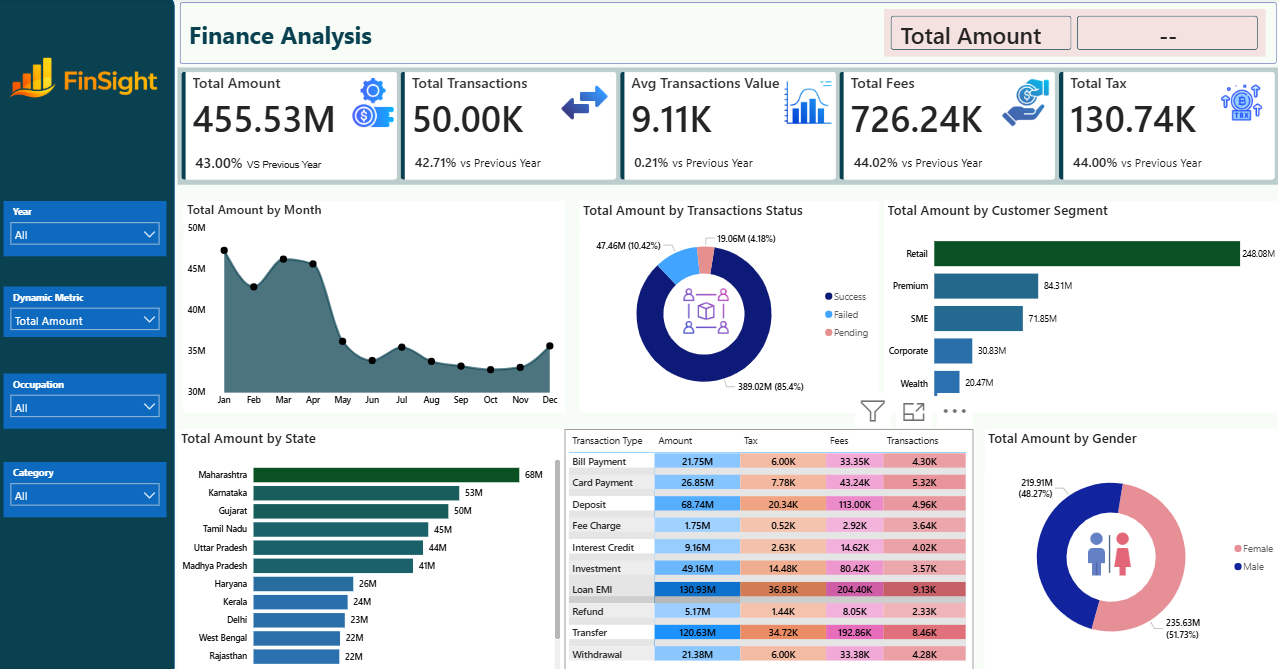

The dashboard page shown, as its layout file describes it:
{"tool":"powerbi","page":{"name":"Page 1","canvas":[1800,950],"ordinal":0},"visuals":[{"type":"shape","box":[0,0,250.3,950.2],"z":0},{"type":"cardVisual","fields":{"Data":["Measure.Dashboard Title"]},"box":[250.6,0,1549.4,100],"z":1000},{"type":"cardVisual","fields":{"Data":["Measure.Total Amount","Measure.Total Transactions","Measure.Avg Transactions Value","Measure.Total Fees","Measure.Total Tax"]},"box":[254.7,99.7,1540,163.9],"z":2000},{"type":"slicer","fields":{"Values":["Calendar Table.Year"]},"box":[11.1,285.7,228.1,77.5],"z":3000},{"type":"image","box":[493.9,113,68.7,68.7],"z":4000},{"type":"image","box":[788.5,113,68.7,68.7],"z":5000},{"type":"image","box":[1100.8,113,68.7,68.7],"z":6000},{"type":"image","box":[1406.5,113,68.7,68.7],"z":7000},{"type":"image","box":[1707.7,113,68.7,68.7],"z":8000},{"type":"image","box":[10.5,0,228.8,226.7],"z":9000},{"type":"slicer","fields":{"Values":["Dynamic Metric.Dynamic Metric"]},"box":[11.1,405.3,228.1,70.9],"z":10000},{"type":"areaChart","fields":{"Y":[".Measure.Total Amount"],"Category":["Calendar Table.Month"]},"box":[261.4,285.7,533.8,296.8],"z":11000},{"type":"cardVisual","fields":{"Data":[".Measure.Selected dymanic measure",".Measure.Selected Year"]},"box":[1242.6,17.7,533.8,66.4],"z":12000},{"type":"donutChart","title":"Total Amount by Transactions Status","fields":{"Y":[".Measure.Total Amount"],"Category":["finance_transactions.transaction_status"]},"box":[817.3,285.7,418.6,296.8],"z":13000},{"type":"barChart","title":"Total Amount by Customer Segment","fields":{"Y":[".Measure.Total Amount"],"Category":["customers.customer_segment"]},"box":[1242.6,285.7,551.5,296.8],"z":14000},{"type":"barChart","title":"Total Amount by State","fields":{"Y":[".Measure.Total Amount"],"Category":["customers.state"]},"box":[254.7,604.7,540.4,345.5],"z":15000},{"type":"tableEx","fields":{"Values":["finance_transactions.transaction_type",".Measure.Total Amount",".Measure.Total Tax",".Measure.Total Fees",".Measure.Total Transactions"]},"box":[795.2,604.7,573.7,338.9],"z":16000},{"type":"donutChart","title":"Total Amount by Gender","fields":{"Y":[".Measure.Total Amount"],"Category":["customers.gender"]},"box":[1382.1,604.7,418.6,338.9],"z":16001},{"type":"image","box":[959.1,405.3,68.7,68.7],"z":16002},{"type":"image","box":[1523.9,744.2,68.7,68.7],"z":16003},{"type":"slicer","fields":{"Values":["customers.occupation"]},"box":[11.1,527.2,228.1,77.5],"z":16004},{"type":"slicer","fields":{"Values":["finance_transactions.merchant_category"]},"box":[11.1,651.2,228.1,77.5],"z":16005}]}

Visuals, with their boxes in screenshot pixels (x1, y1, x2, y2), scaled from the page's 1800x950 canvas onto the 1278x669 screenshot:
shape: <bbox>0, 0, 178, 668</bbox>
cardVisual - Measure.Dashboard Title: <bbox>178, 0, 1277, 70</bbox>
cardVisual - Measure.Total Amount x Measure.Total Transactions: <bbox>181, 70, 1274, 186</bbox>
slicer - Calendar Table.Year: <bbox>8, 201, 170, 256</bbox>
image: <bbox>351, 80, 399, 128</bbox>
image: <bbox>560, 80, 609, 128</bbox>
image: <bbox>782, 80, 830, 128</bbox>
image: <bbox>999, 80, 1047, 128</bbox>
image: <bbox>1212, 80, 1261, 128</bbox>
image: <bbox>7, 0, 170, 160</bbox>
slicer - Dynamic Metric.Dynamic Metric: <bbox>8, 285, 170, 335</bbox>
areaChart - .Measure.Total Amount x Calendar Table.Month: <bbox>186, 201, 565, 410</bbox>
cardVisual - .Measure.Selected dymanic measure x .Measure.Selected Year: <bbox>882, 12, 1261, 59</bbox>
"Total Amount by Transactions Status" donutChart: <bbox>580, 201, 877, 410</bbox>
"Total Amount by Customer Segment" barChart: <bbox>882, 201, 1274, 410</bbox>
"Total Amount by State" barChart: <bbox>181, 426, 565, 668</bbox>
tableEx - finance_transactions.transaction_type x .Measure.Total Amount: <bbox>565, 426, 972, 664</bbox>
"Total Amount by Gender" donutChart: <bbox>981, 426, 1277, 664</bbox>
image: <bbox>681, 285, 730, 334</bbox>
image: <bbox>1082, 524, 1131, 572</bbox>
slicer - customers.occupation: <bbox>8, 371, 170, 426</bbox>
slicer - finance_transactions.merchant_category: <bbox>8, 459, 170, 513</bbox>
